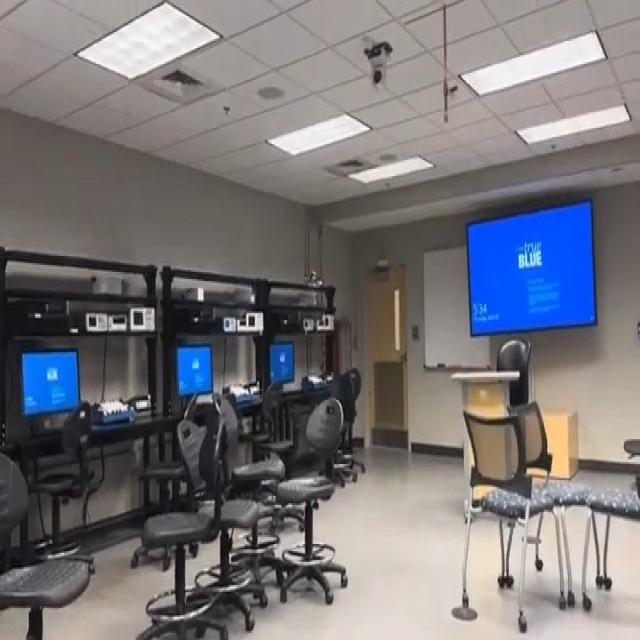drone: (296, 262, 328, 298)
